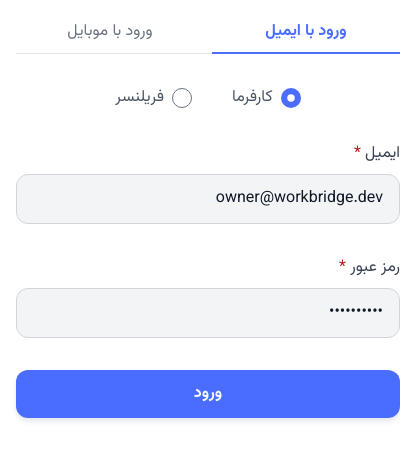
Test: AuthContainer › shows the returned code in the send-OTP toast
Click the tab "ورود با موبایل" at x=110, y=33, box [16, 12, 204, 54]
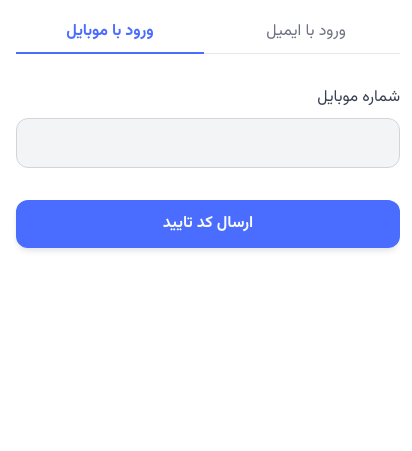
Type "09120000001" into the field labelled "شماره موبایل" at x=208, y=143, box [16, 118, 400, 168]
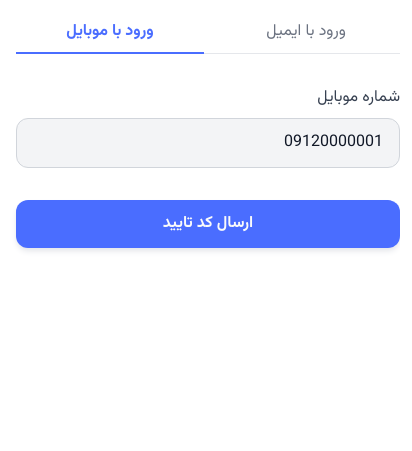
Click the button "ارسال کد تایید" at x=208, y=224, box [16, 200, 400, 248]
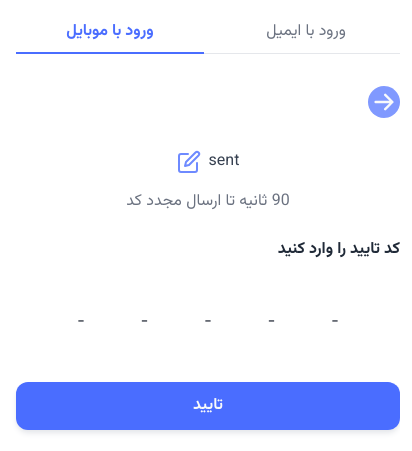
Expected: the text "کد تایید را وارد کنید" is shown, [278, 237, 400, 262]
